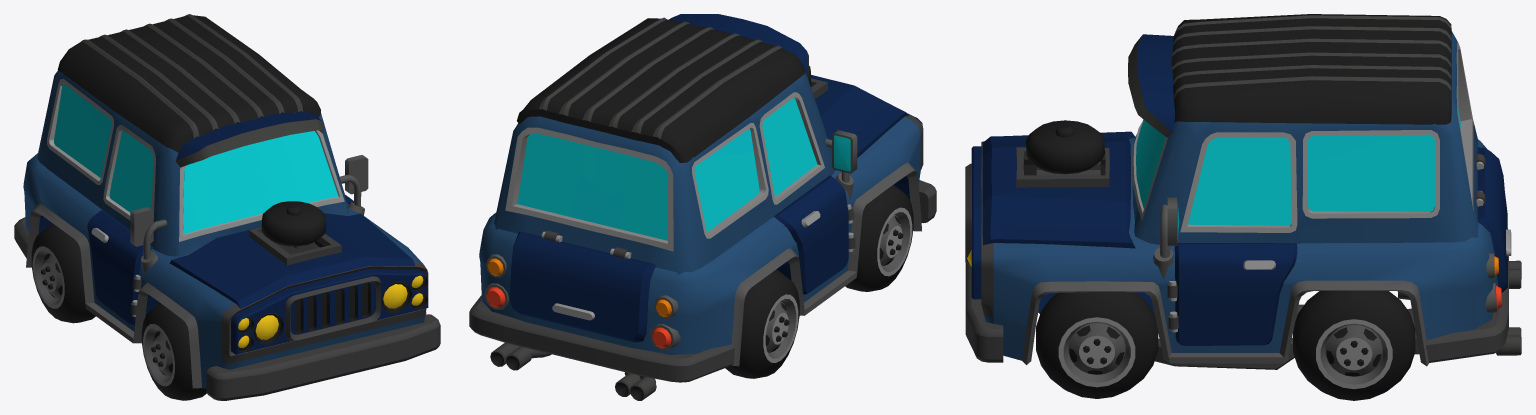
File: VEH10-A.fbx
The picture shows the model from 3 angles, left to right: view 1: azimuth 30°, elevation 25°; view 2: azimuth 150°, elevation 25°; view 3: azimuth 270°, elevation 25°; orthographic projection. The views are drawn at different scales.
Visible parts, largest first — view 1: VEH10_A, V10A_Wheel_BR, V10A_Wheel_FR; view 2: VEH10_A, V10A_Wheel_BR, V10A_Wheel_FR; view 3: VEH10_A, V10A_Wheel_BL, V10A_Wheel_FL.
Part boxes in pixels (box(x1,y1,x2,y2)): VEH10_A: box(14, 14, 440, 400); V10A_Wheel_BR: box(31, 223, 95, 323); V10A_Wheel_FR: box(141, 303, 206, 400); VEH10_A: box(469, 14, 936, 400); V10A_Wheel_BR: box(725, 269, 799, 378); V10A_Wheel_FR: box(845, 185, 913, 291); VEH10_A: box(965, 14, 1521, 369); V10A_Wheel_BL: box(1293, 291, 1415, 400); V10A_Wheel_FL: box(1036, 292, 1158, 398).
Size of the model in its own units: 257 by 234 by 405.
Materials: 1 (1 with a texture image).
